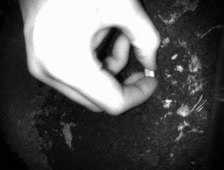corn: (147, 66, 157, 83), (143, 66, 150, 80)
